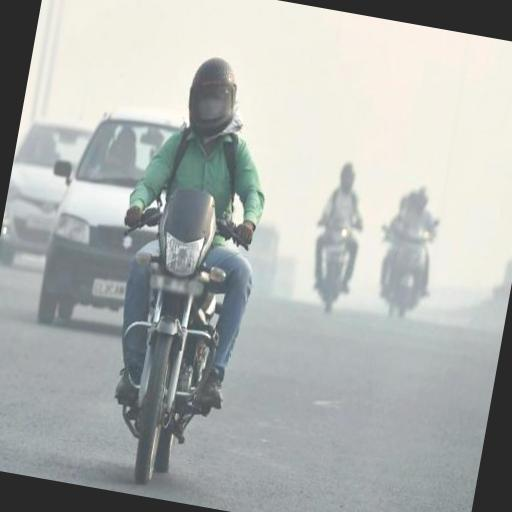helmet: (88, 37, 292, 480)
